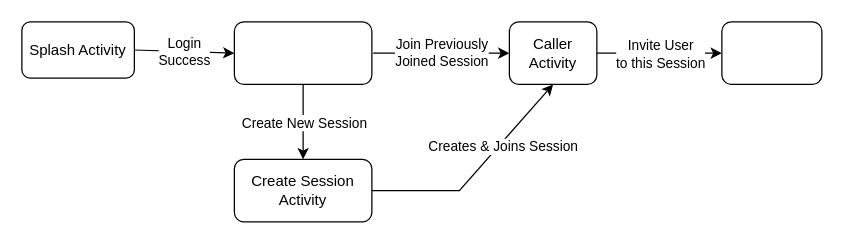
Image size: 844x244. Some labels were removed from this diagram. The shapes that lost their labels are listed below. From the top down, each one's centre as x and y in pixels, then its label:
At [302,52]: "View Sessions Activity".
At [771,52]: "Invite User Activity".
